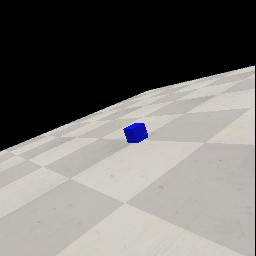box: (123, 123, 148, 143)
